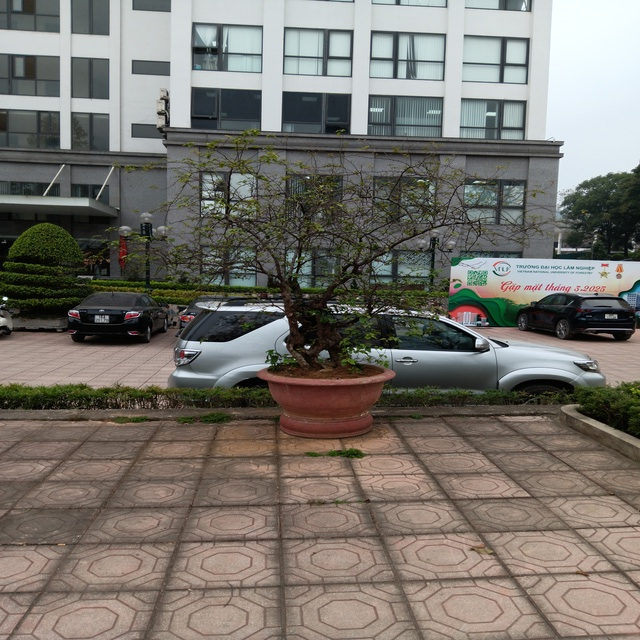caycanh: (214, 160, 444, 443)
